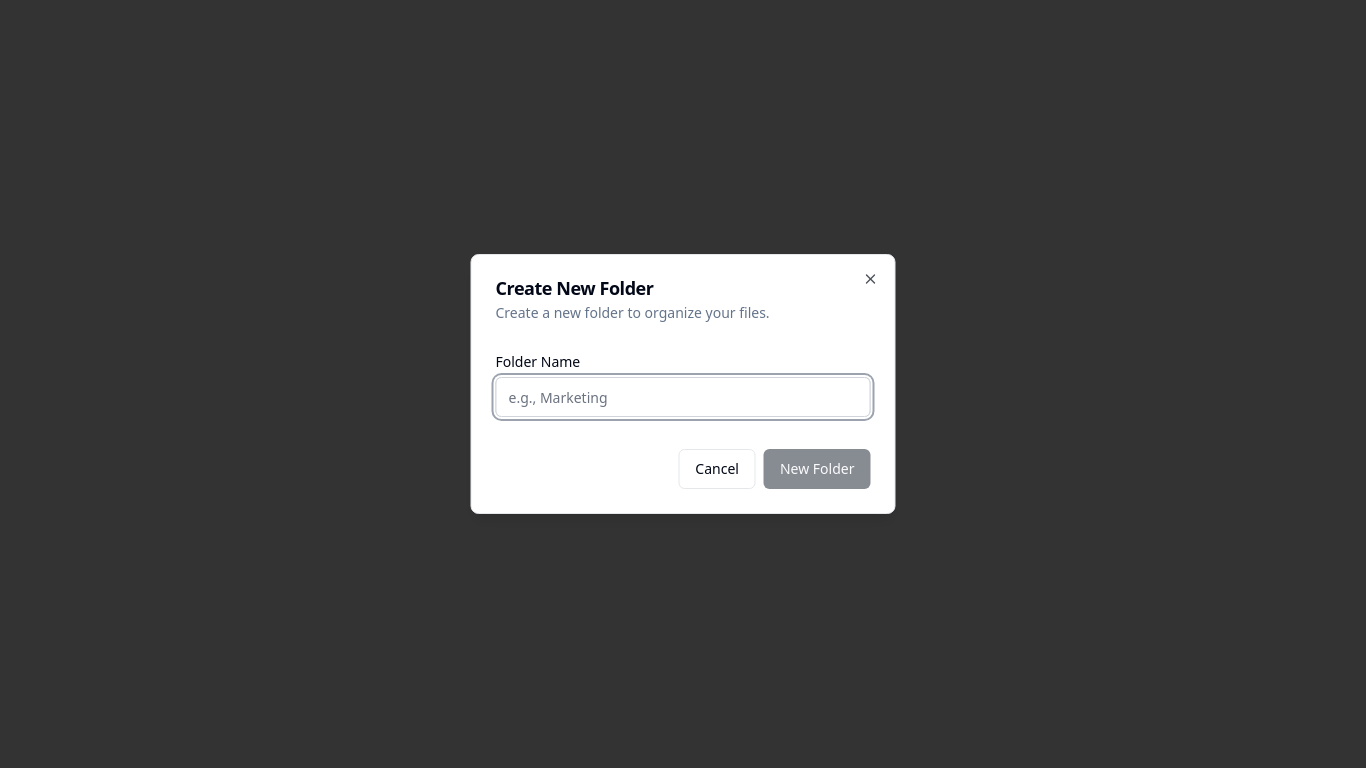
AddFolderDialog › disables button, input, and prevents duplicate submissions during submit
The image size is (1366, 768).
Type "My New Folder" into the field with placeholder "e.g., Marketing" at [683, 397], box [496, 377, 870, 417]
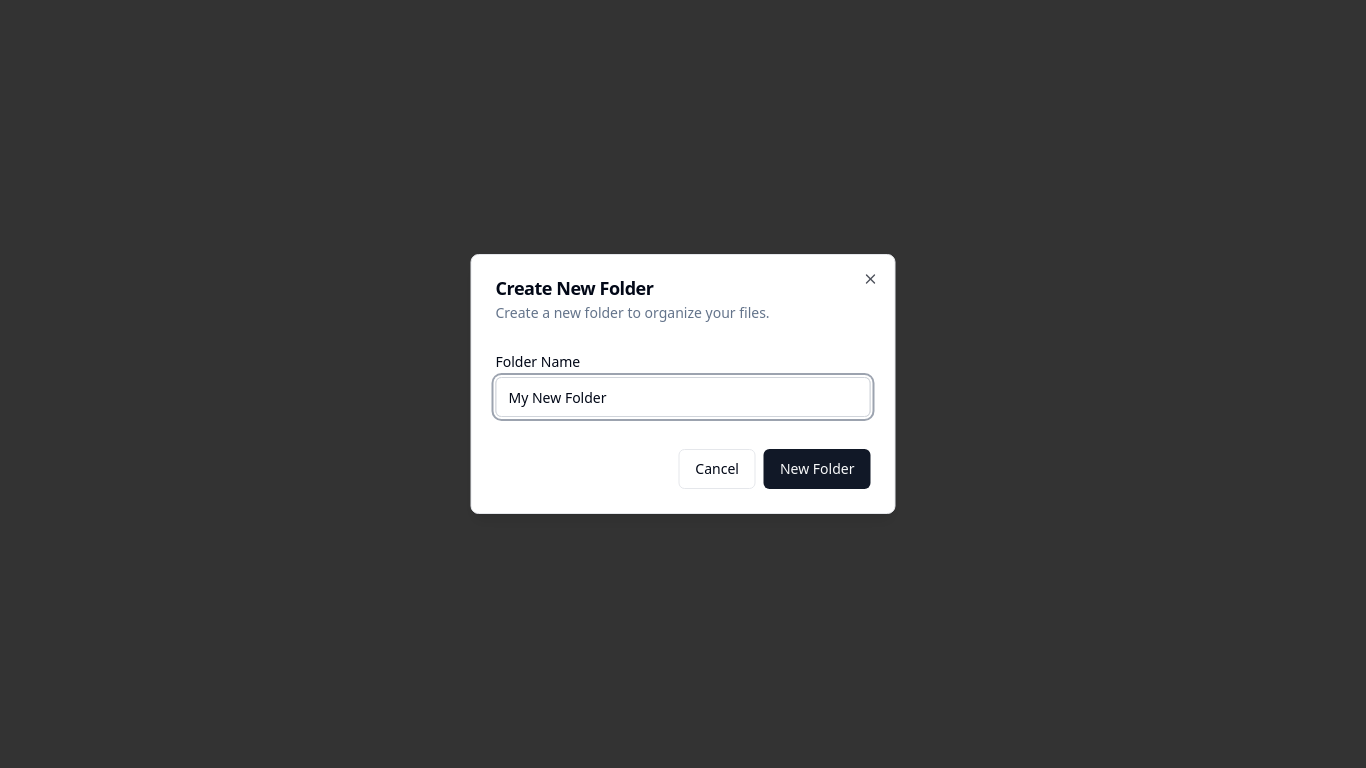
// First click
Click the button "New Folder" at [817, 469], box [764, 449, 870, 489]
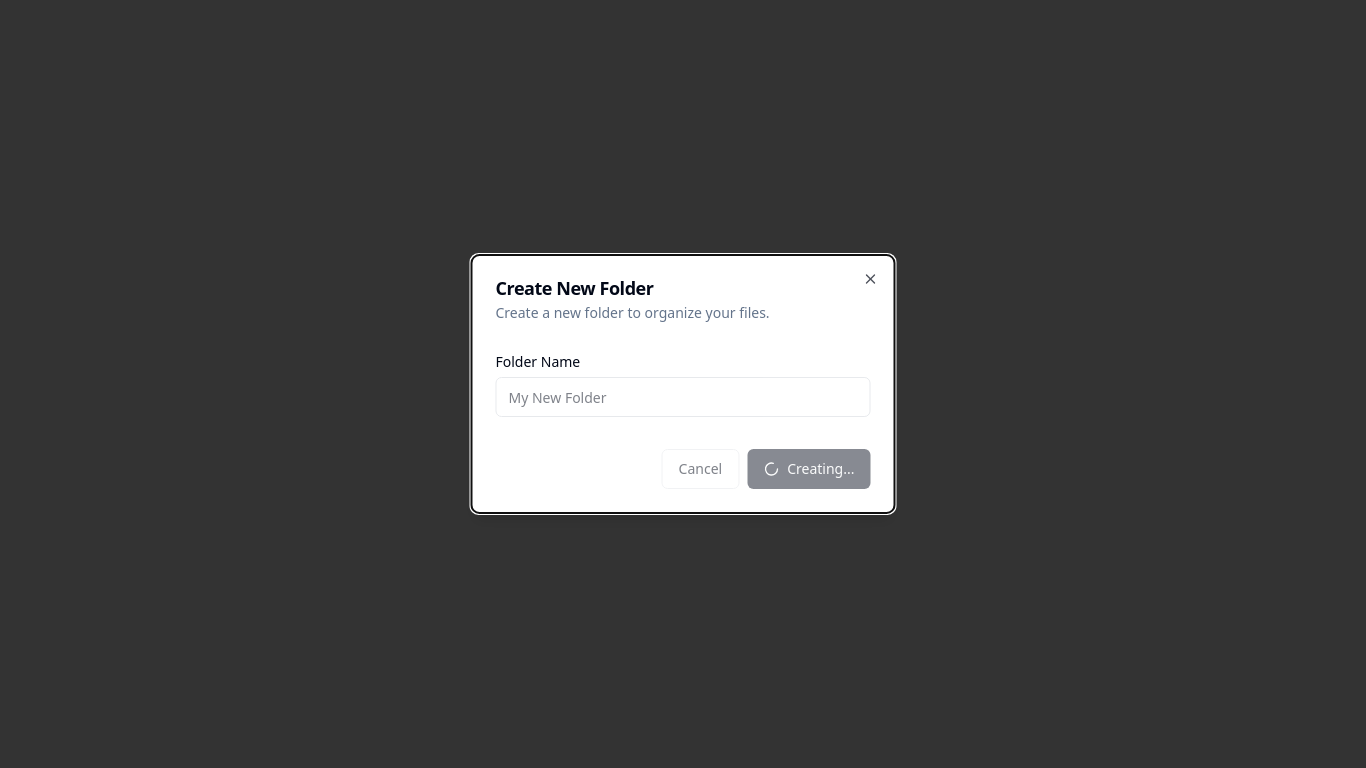
Expected: the button "Creating..." is shown
Expected: the button "Creating..." is disabled
Expected: the field with placeholder "e.g., Marketing" is disabled, [496, 377, 870, 417]
// Second click while in flight should not trigger another call
Click the button "Creating..." at [809, 469], box [747, 449, 870, 489]
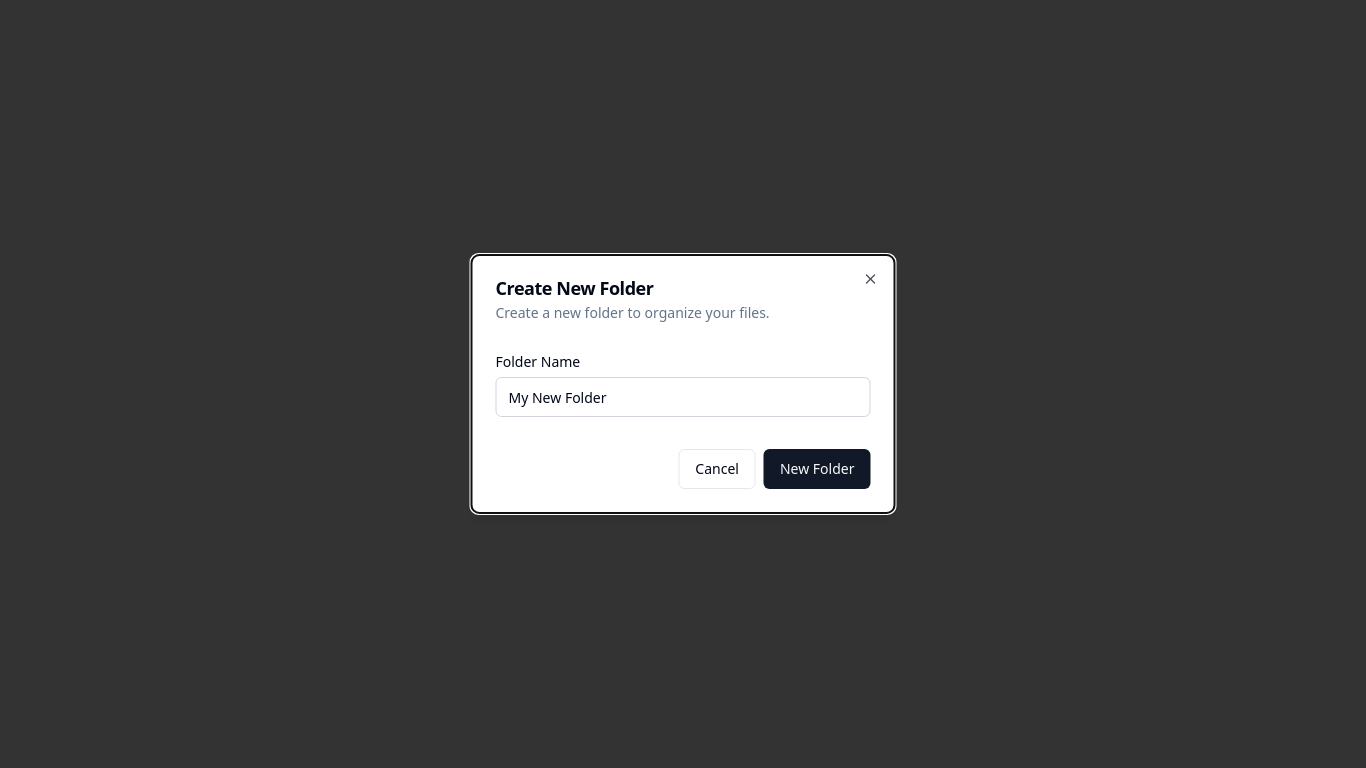
Expected: the button "Creating..." is gone
